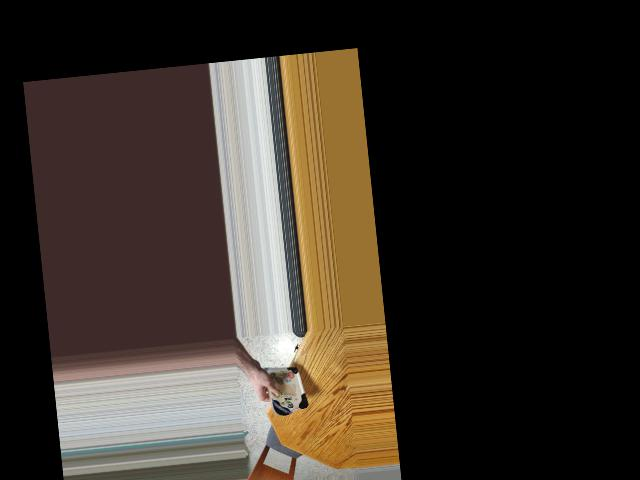cheese: (259, 362, 309, 418)
